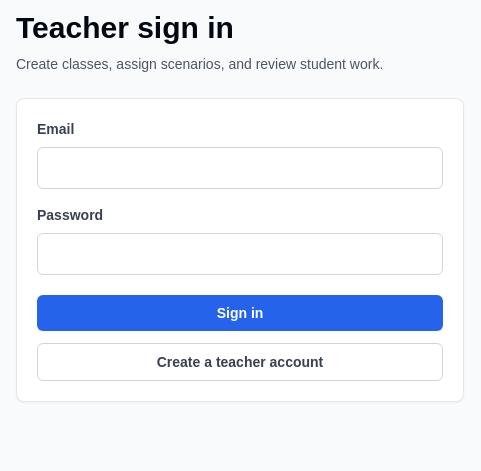
Test case: TeacherLoginPage › renders an environment error when Supabase is not configured
Type "teacher@example.com" into the field labelled "Email" at (240,168), box [37,147,443,189]
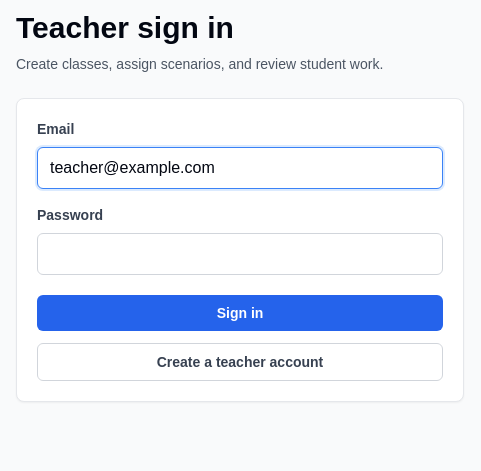
Type "password123" into the password field labelled "Password" at (240,254), box [37,233,443,275]
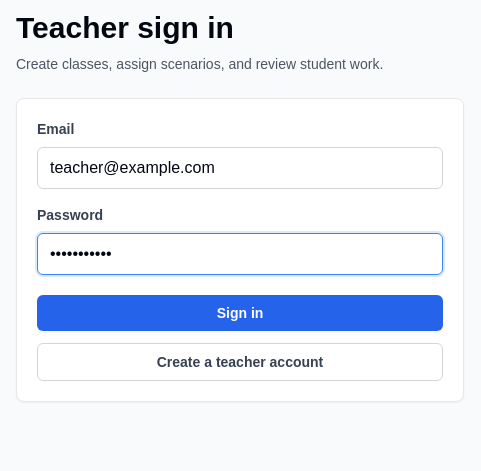
Click the button "Sign in" at (240,313), box [37,295,443,331]
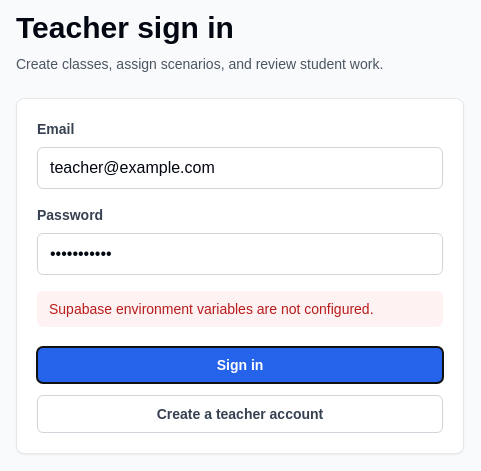
Expected: the text "Supabase environment variables are not configured." is shown, [37,291,443,327]
